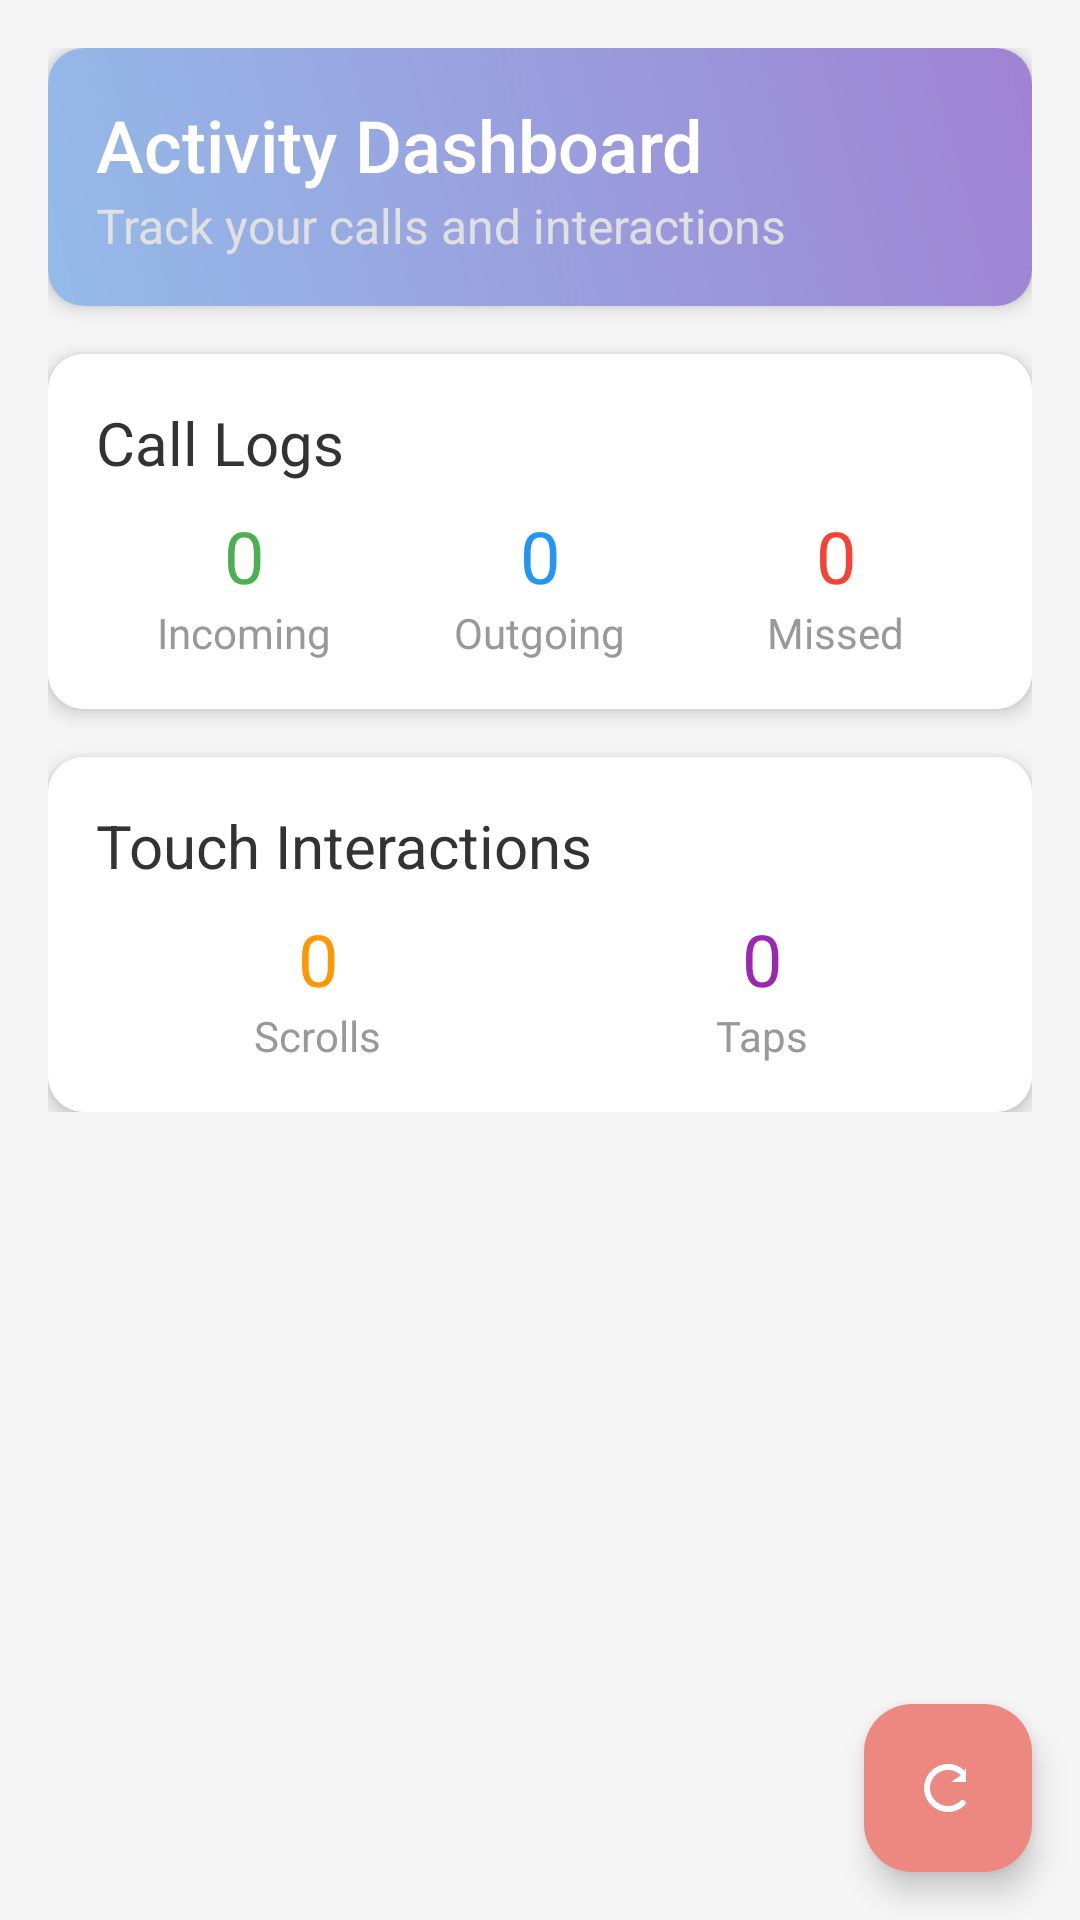

Point at icon controls on the screen. Image size 1080px x 1920px, points as (x,y).
refresh: (948,1788)
